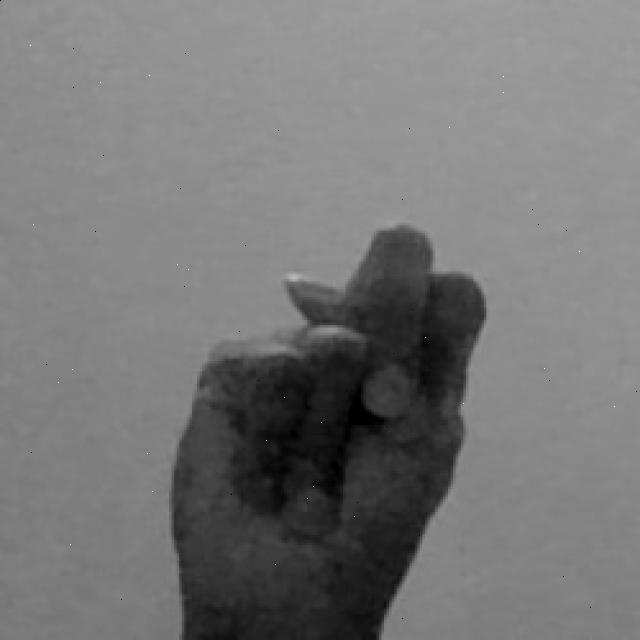N: (166, 217, 493, 640)
